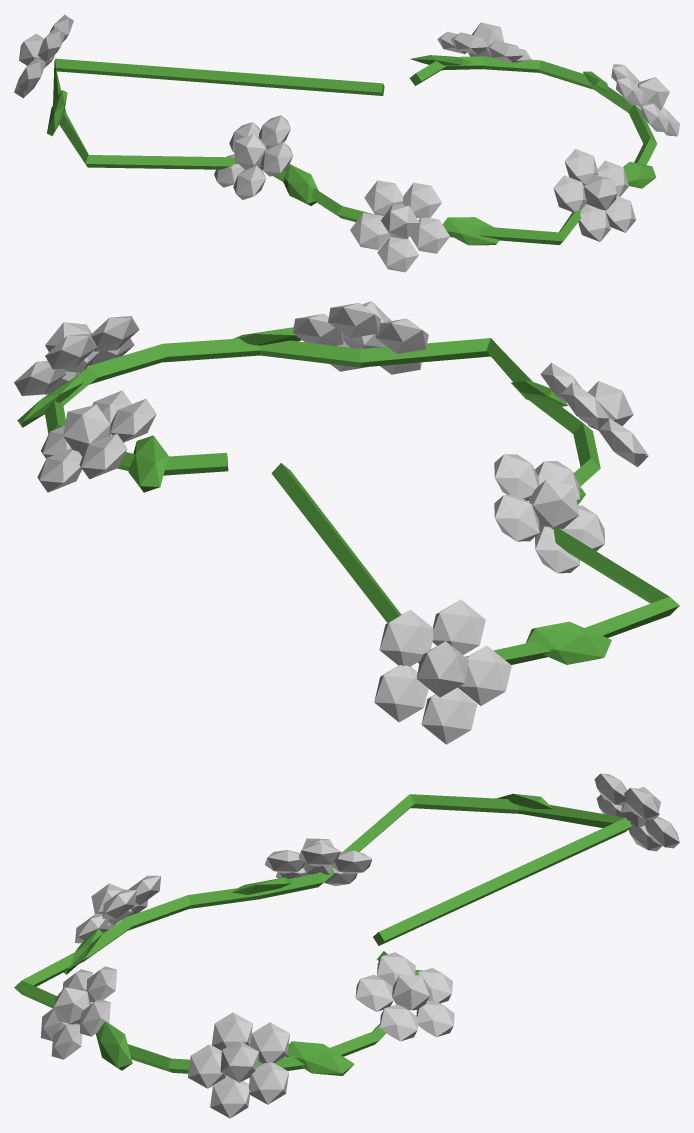
File: acc_tiara_flower_v01.glb
The picture shows the model from 3 angles, top to bottom: view 1: azimuth 30°, elevation 25°; view 2: azimuth 150°, elevation 25°; view 3: azimuth 270°, elevation 25°; orthographic projection. The views are drawn at different scales.
Parts seen in each view (by area): view 1: acc_tiara_flower; view 2: acc_tiara_flower; view 3: acc_tiara_flower.
Boxes of the visible parts, x1=… form: acc_tiara_flower: x1=14, y1=14, x2=679, y2=272; acc_tiara_flower: x1=14, y1=301, x2=679, y2=744; acc_tiara_flower: x1=14, y1=773, x2=679, y2=1118.
Bounding box in the file's own units: 0.4229 × 0.0776 × 0.4258.
